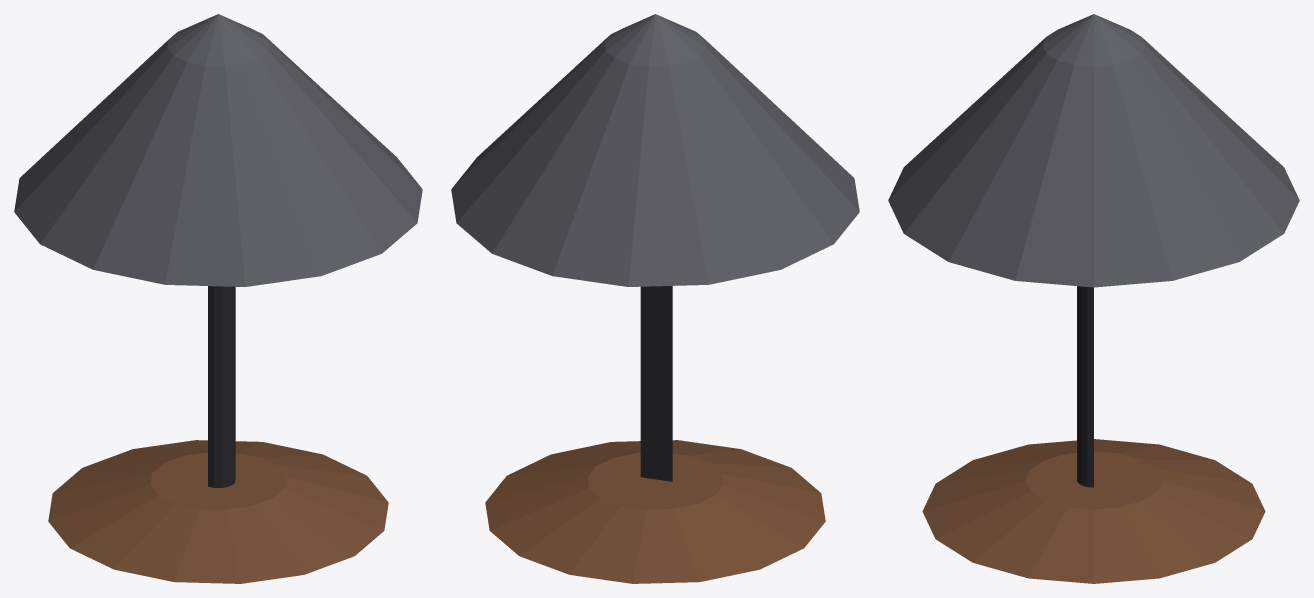
File: lamp.obj
3 renders of one model, left to right at view 1: azimuth 30°, elevation 25°; view 2: azimuth 150°, elevation 25°; view 3: azimuth 270°, elevation 25°, orthographic.
Parts seen in each view (by area): view 1: shade, base, stem, base_top_to_stem, shade_top_cap; view 2: shade, base, stem, base_top_to_stem, shade_top_cap; view 3: shade, base, base_top_to_stem, shade_top_cap, stem.
Part boxes in pixels (left/top/right/bottom): shade: left=14, top=35, right=422, bottom=286; base: left=48, top=440, right=388, bottom=583; stem: left=208, top=286, right=235, bottom=487; base_top_to_stem: left=150, top=452, right=286, bottom=509; shade_top_cap: left=167, top=14, right=269, bottom=66; shade: left=451, top=35, right=859, bottom=286; base: left=485, top=440, right=825, bottom=583; stem: left=640, top=286, right=672, bottom=481; base_top_to_stem: left=587, top=452, right=723, bottom=509; shade_top_cap: left=604, top=14, right=706, bottom=66; shade: left=888, top=37, right=1299, bottom=287; base: left=922, top=439, right=1265, bottom=583; base_top_to_stem: left=1025, top=451, right=1162, bottom=509; shade_top_cap: left=1042, top=14, right=1145, bottom=66; stem: left=1077, top=286, right=1093, bottom=487.
Size of the model in its own units: 1.2 by 1.6 by 1.2.
